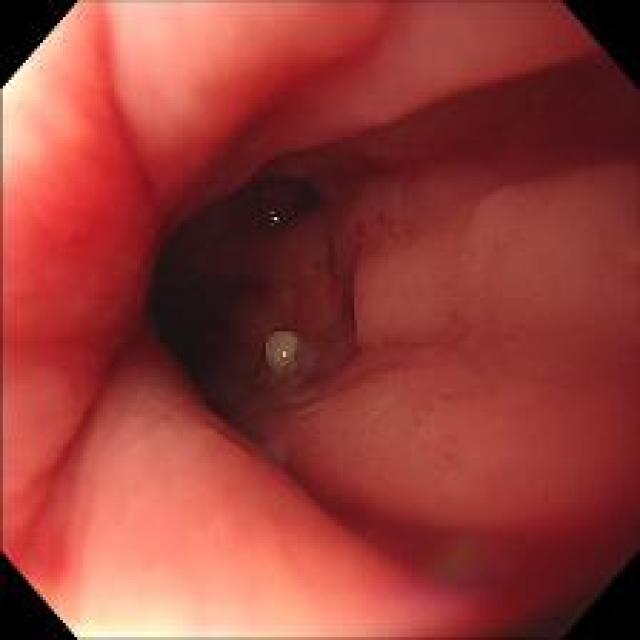contrast: (151, 164, 338, 444), (480, 49, 638, 162)
saturation: (60, 546, 302, 638), (4, 26, 62, 152)
specularity: (279, 349, 292, 358), (270, 216, 279, 224)
